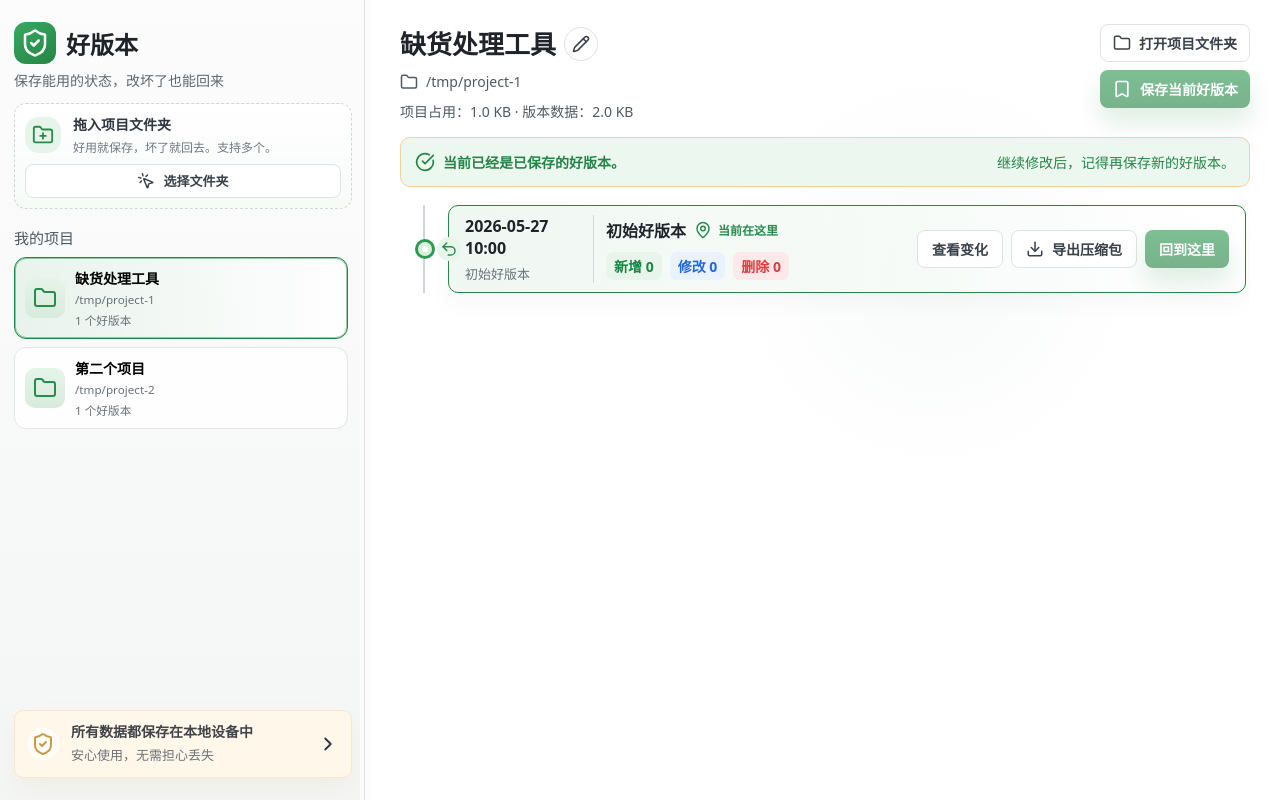
Test: App › 添加项目按钮选择已存在项目时直接切换过去
Expected: the heading "缺货处理工具" is shown, [400,24,556,62]
Click the button "选择文件夹". click: (183, 181)
box: [25,164,341,198]
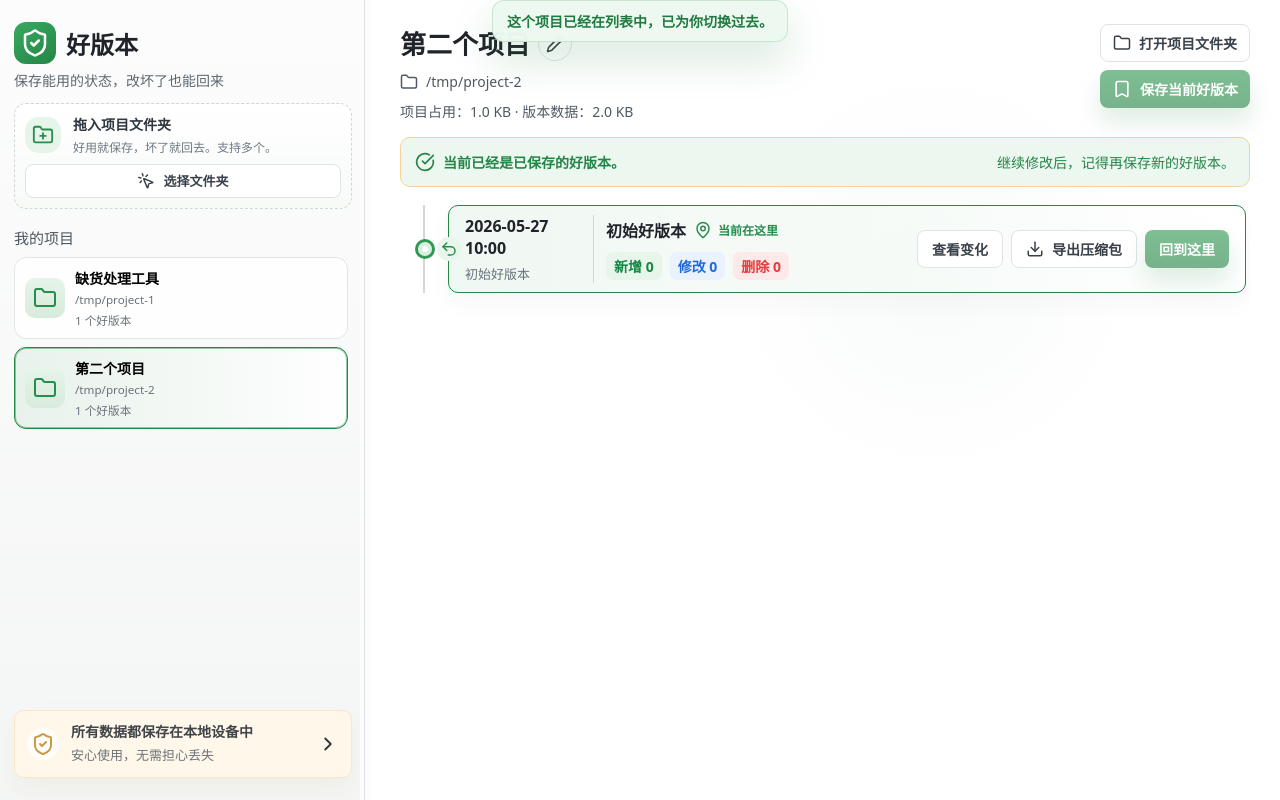
Now the text "这个项目已经在列表中，已为你切换过去。" is shown, box [492,0,788,42]
Now the heading "第二个项目" is shown, box [400,24,530,62]
